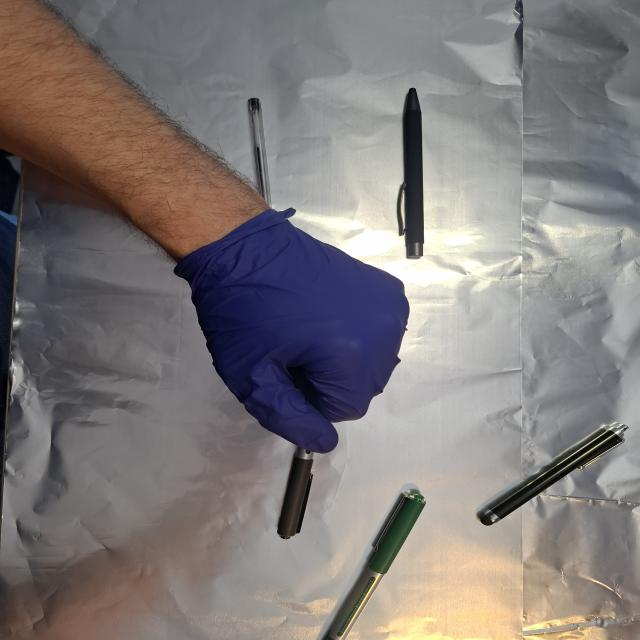glove_on: (172, 208, 412, 456)
